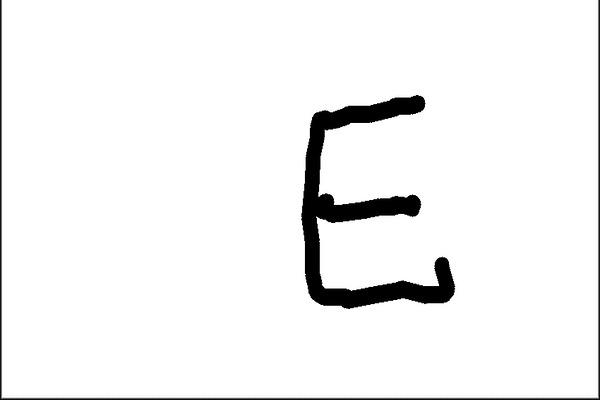E: (296, 89, 461, 312)
